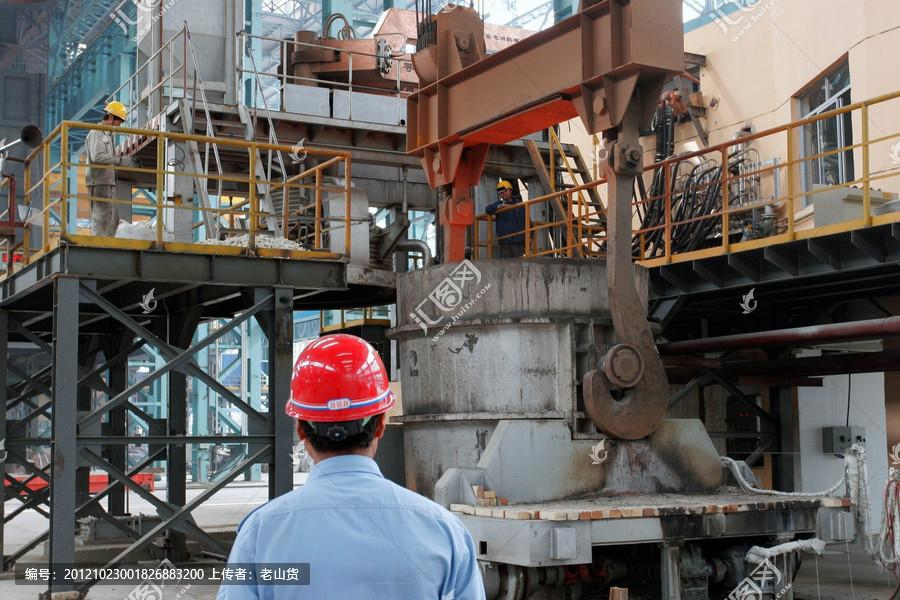helmet: (286, 329, 397, 425), (105, 103, 130, 125), (497, 177, 514, 195)
